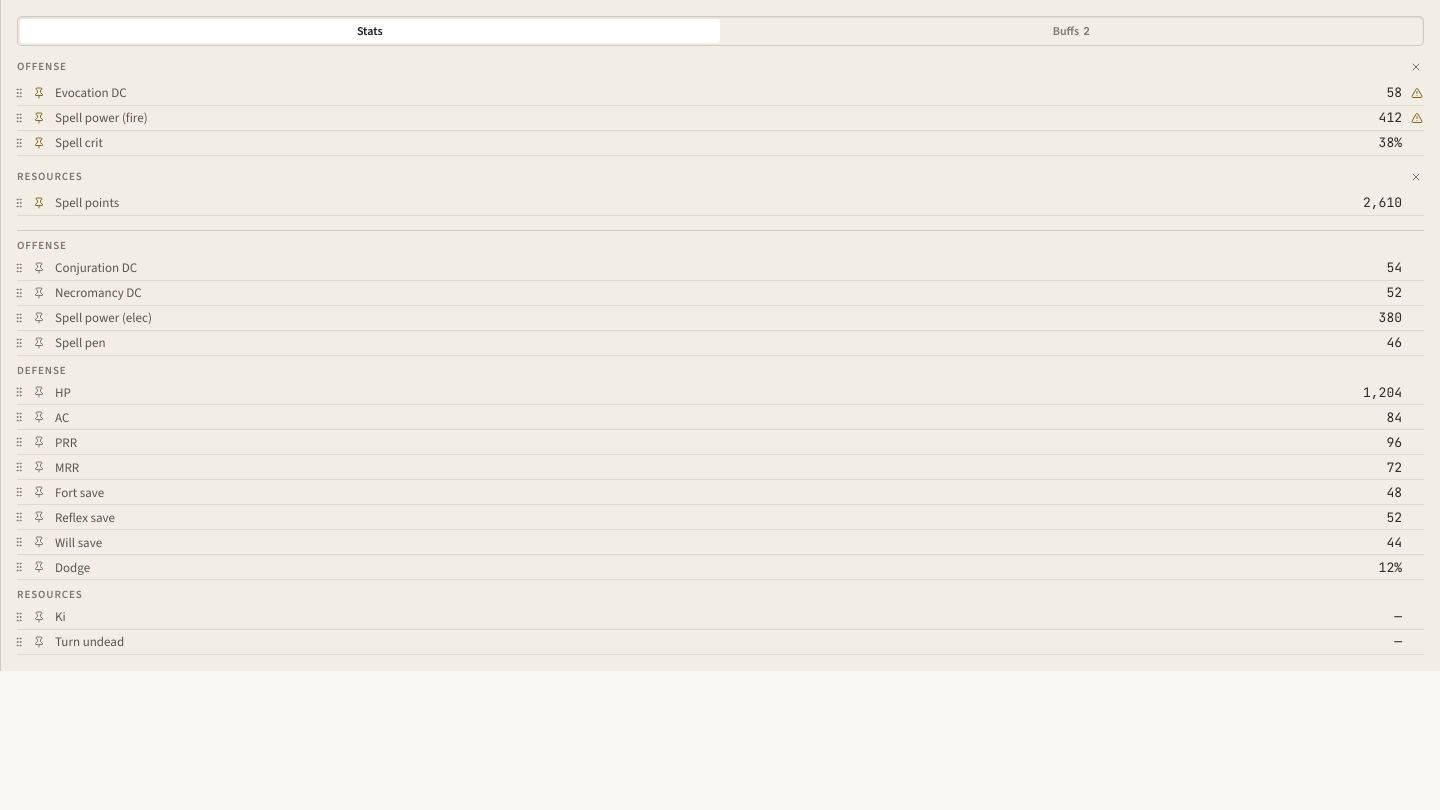
Scenario: StatsPanel › deletes a group, returning its stats to All stats, and shows the pin zone once no group is left
The image size is (1440, 810).
Expected: the text "Drag a stat here to pin it" is not shown
Click the button named "Delete Offense group" at (1416, 67), box [1408,59,1424,75]
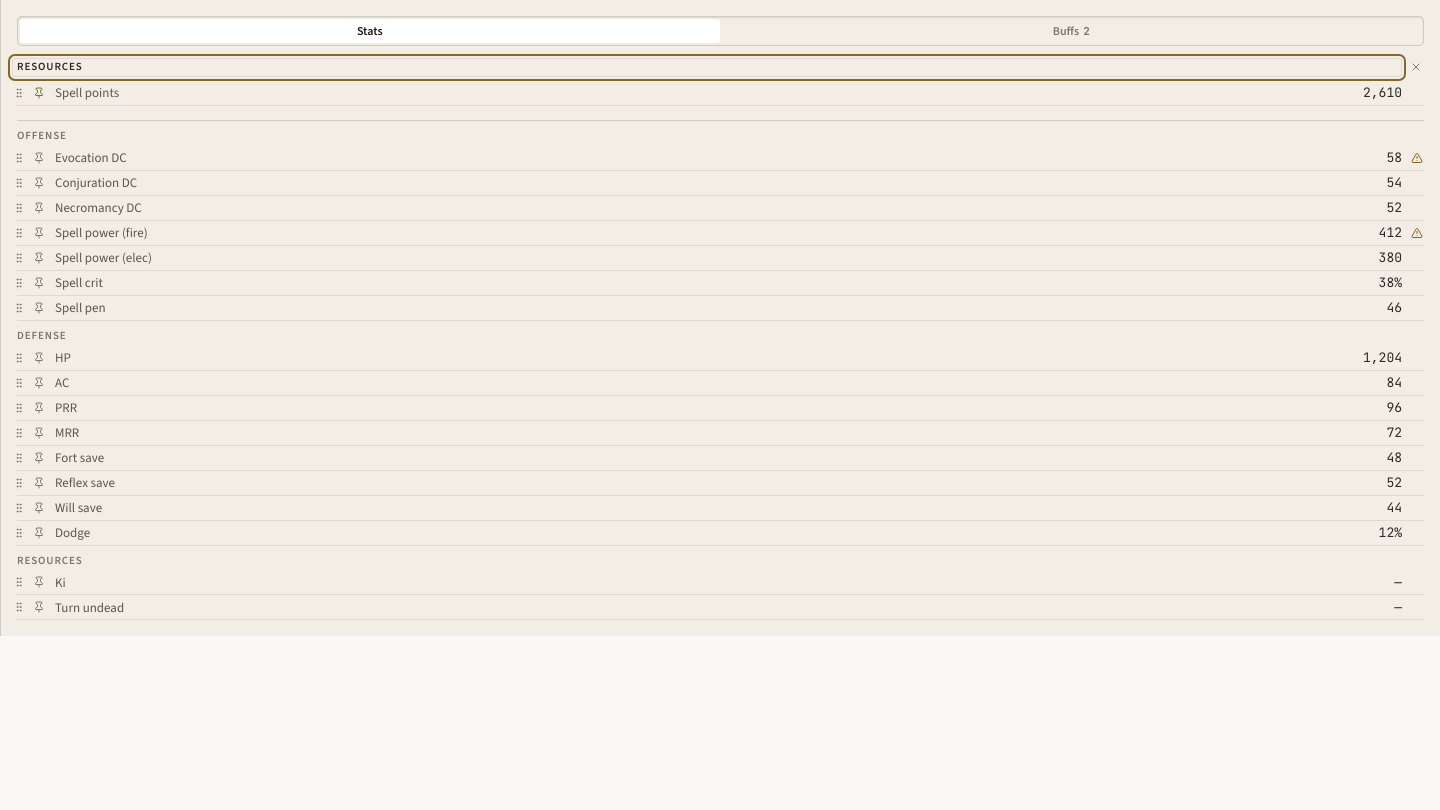
Click the button named "Delete Resources group" at (1416, 67), box [1408,59,1424,75]
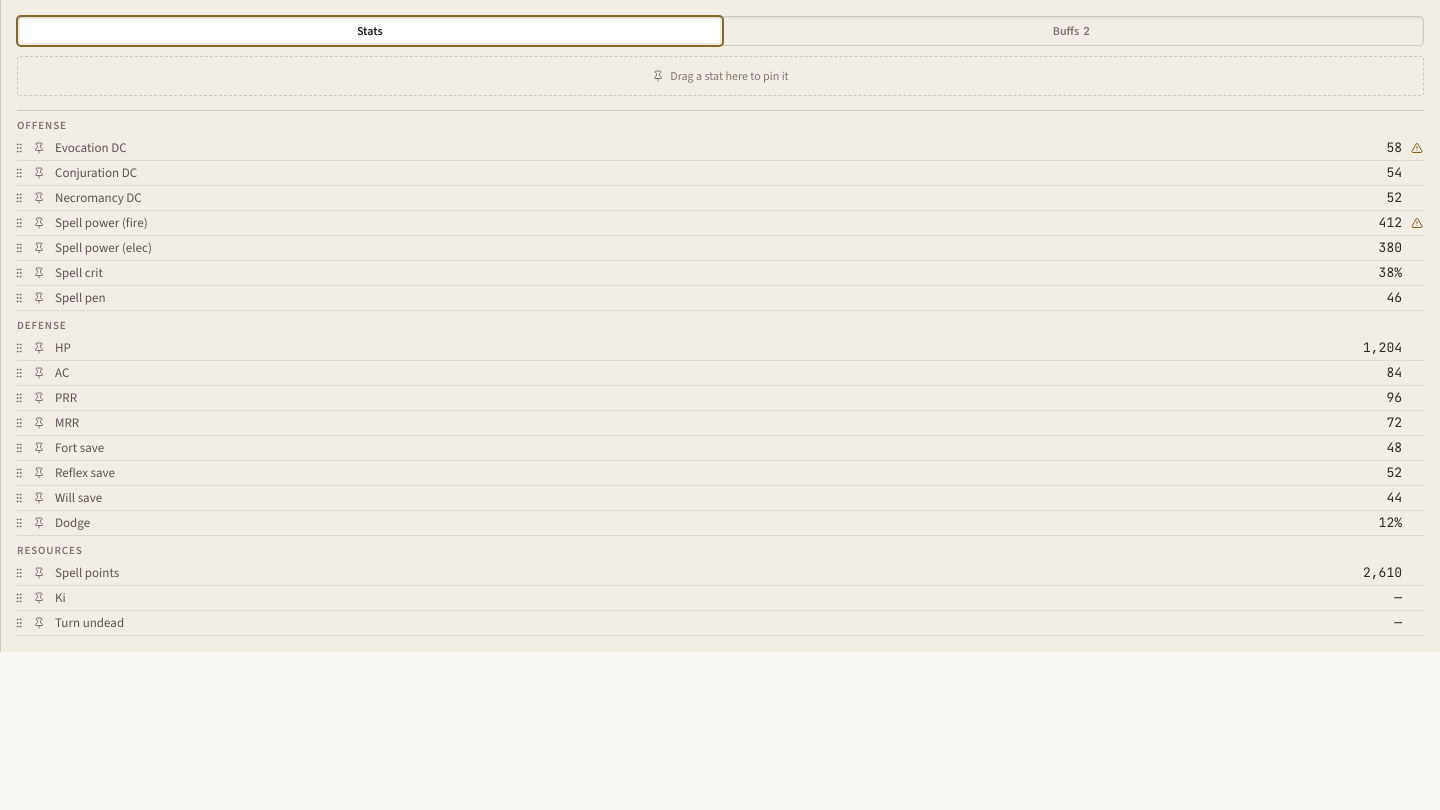
Result: the text "Drag a stat here to pin it" is shown at [17,56,1424,96]
